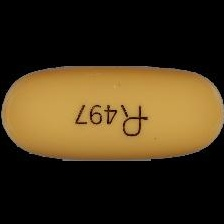55154-5979: (0, 0, 224, 224)
